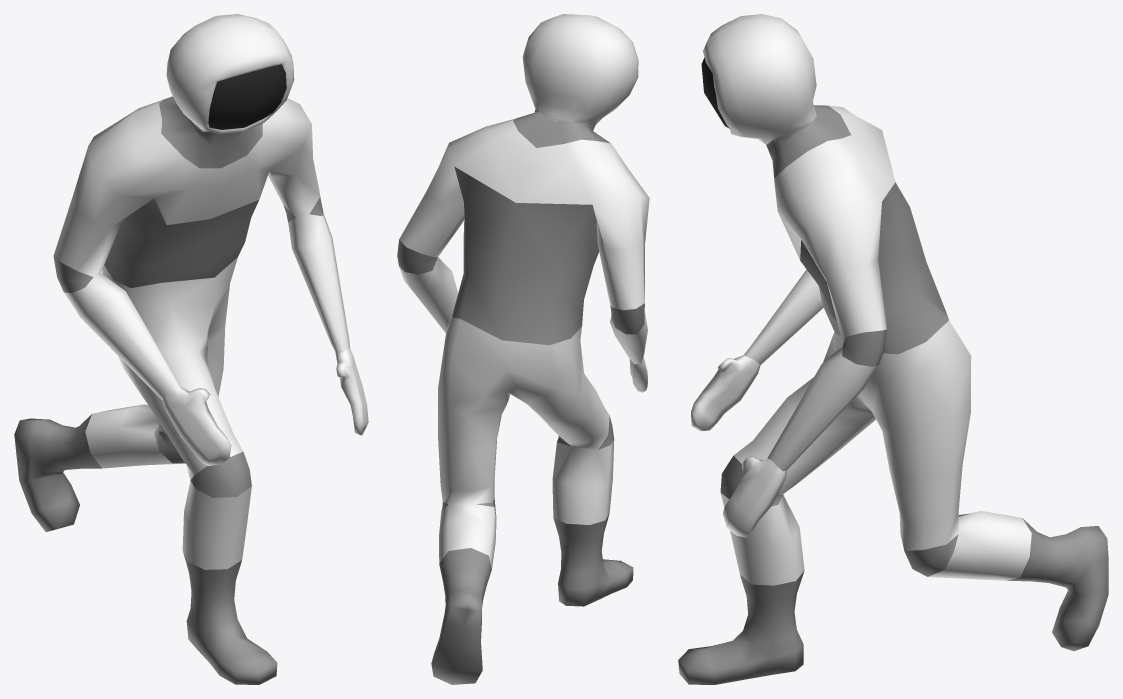
The model's file is astronaut.FBX.
The picture shows the model from 3 angles, left to right: view 1: azimuth 30°, elevation 25°; view 2: azimuth 150°, elevation 25°; view 3: azimuth 270°, elevation 25°; orthographic projection. The views are drawn at different scales.
Parts seen in each view (by area): view 1: Box005; view 2: Box005; view 3: Box005.
Boxes of the visible parts, box(x1,y1,x2,y2) form: Box005: box(14, 14, 368, 684); Box005: box(397, 14, 649, 684); Box005: box(678, 14, 1108, 684).
Size of the model in its own units: 54.29 by 125 by 74.51.
Materials: 1 (1 with a texture image).
